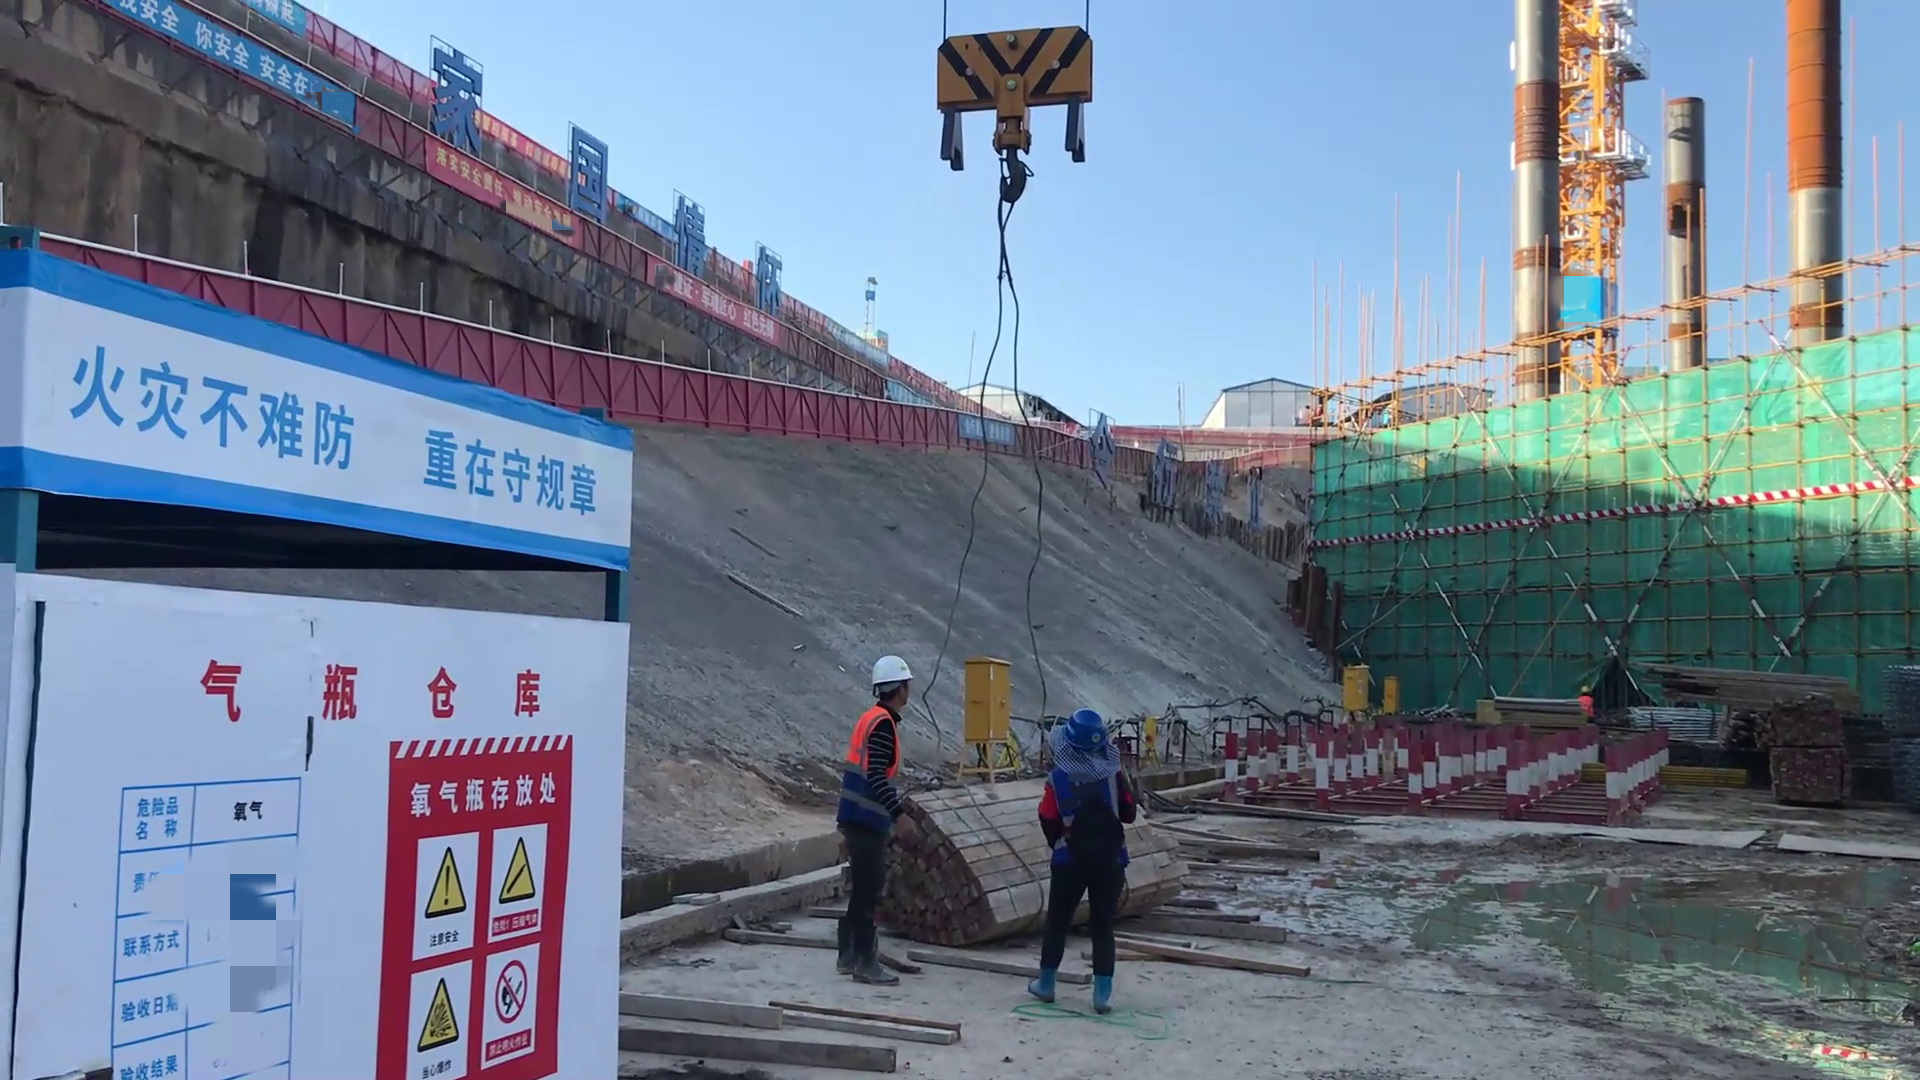ebox: (962, 652, 1014, 740), (1335, 658, 1373, 712), (1379, 673, 1398, 716)
fence: (626, 361, 814, 434), (814, 385, 960, 450)
helmet: (869, 651, 922, 703), (1060, 712, 1113, 757), (1579, 681, 1591, 696)
hook: (926, 29, 1099, 164)
person: (1029, 690, 1127, 1001), (831, 651, 920, 985), (1577, 687, 1601, 723)
slogan: (62, 340, 611, 520), (377, 811, 571, 1076), (385, 87, 604, 305), (103, 1, 332, 141)
vest: (847, 708, 900, 824), (1577, 695, 1596, 721)
wood: (1645, 655, 1829, 724)
